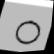no answer: (11, 15, 45, 49)
